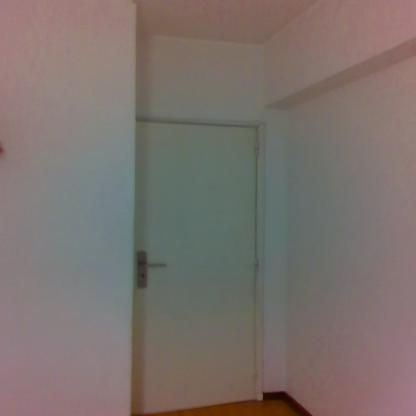door: (134, 120, 256, 404)
hinged: (254, 142, 262, 157), (254, 256, 260, 274), (252, 370, 258, 388)
lever: (141, 262, 171, 270)
